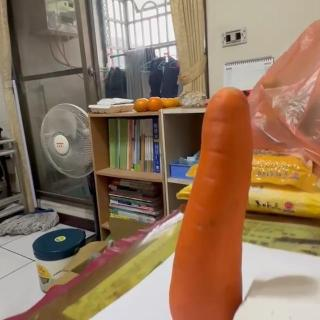carrot: (167, 86, 255, 320)
